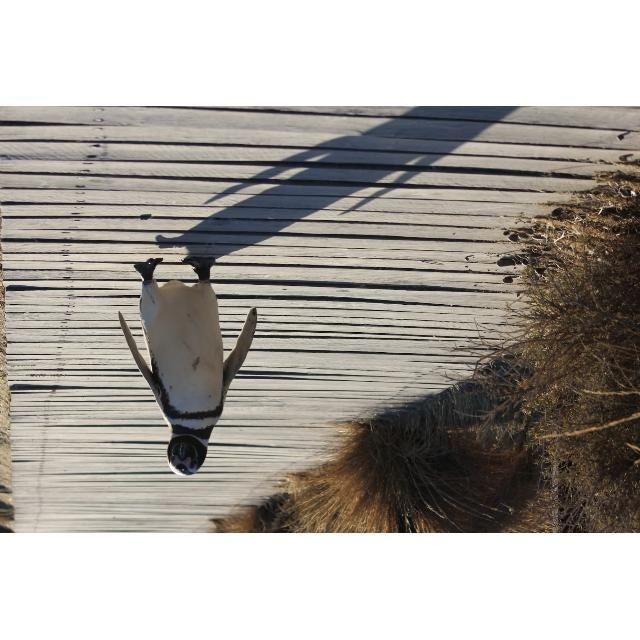penguin: (118, 254, 258, 478)
